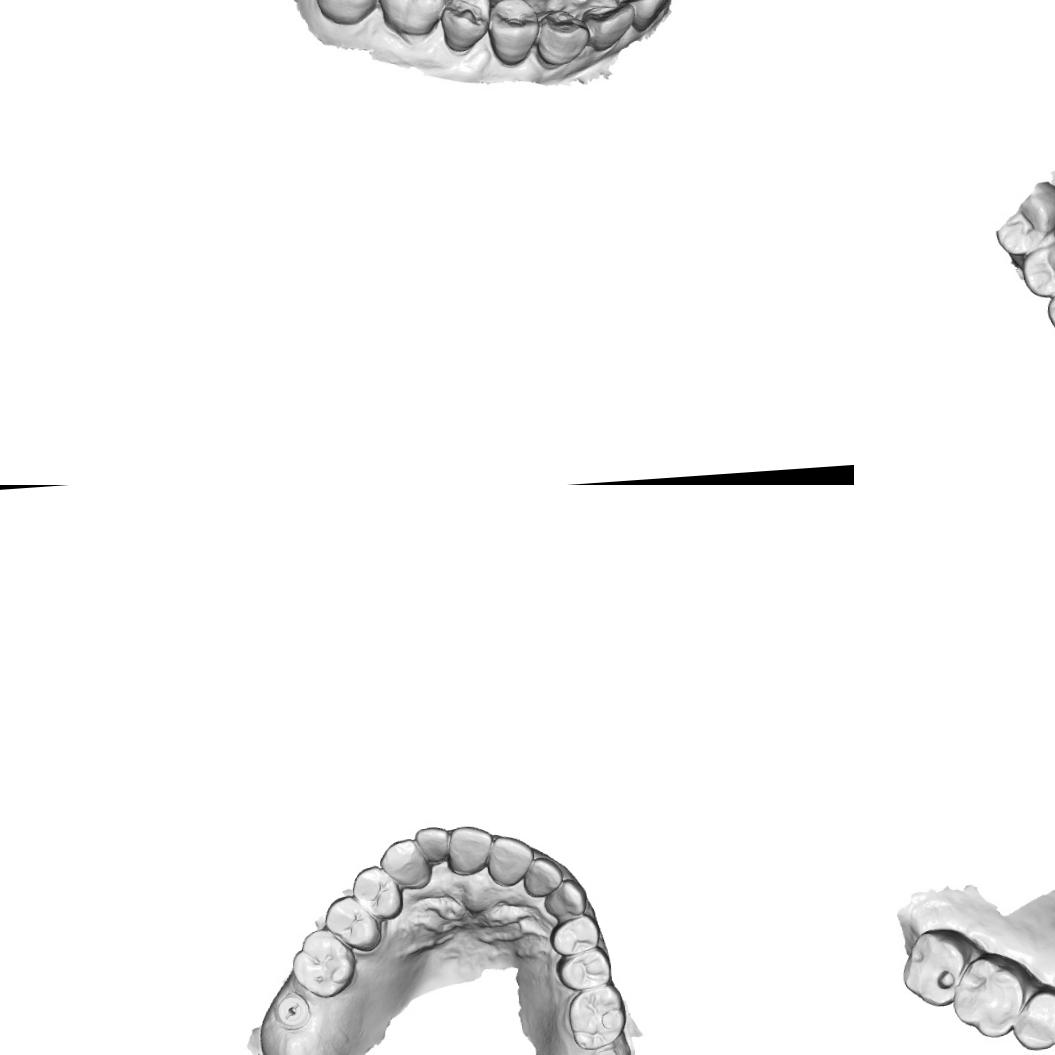canine: (530, 5, 590, 70), (376, 836, 432, 891), (541, 876, 588, 918)
implant_minus: (271, 989, 313, 1030), (585, 1046, 628, 1055)
incisor: (582, 0, 637, 53), (484, 833, 536, 888), (444, 823, 496, 877), (627, 0, 683, 34), (521, 854, 564, 898), (413, 824, 451, 866)
molar: (946, 948, 1035, 1042), (896, 925, 978, 1011), (289, 925, 358, 999), (564, 982, 628, 1052), (375, 0, 457, 37), (304, 0, 391, 29)
premolar: (320, 892, 383, 955), (485, 0, 541, 68), (1008, 980, 1055, 1054), (348, 862, 404, 922), (439, 0, 494, 52), (554, 944, 612, 991), (546, 912, 602, 958), (1017, 233, 1055, 298)
